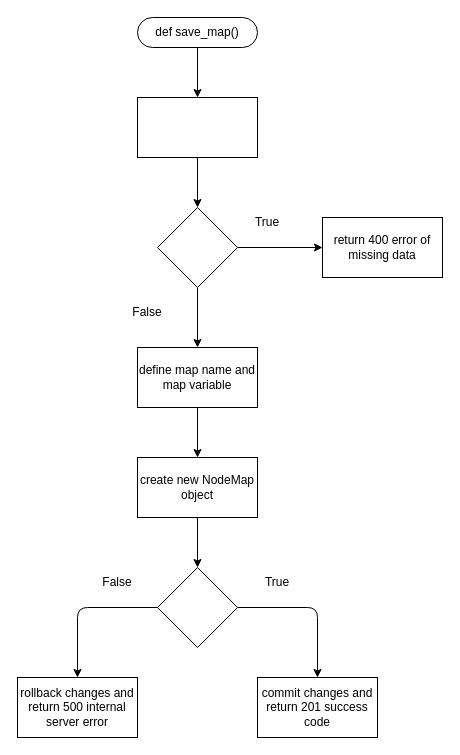
The diagram is 460 pixels wide and 755 high, and some of its shapes have lost their labels. Here are the shapes that lost their labels. From the top down, the centre of each, then its label:
At (197,127): "define data from teh request".
At (197,247): "if map or mapName not contained in data".
At (197,607): "try adding node map to database".
